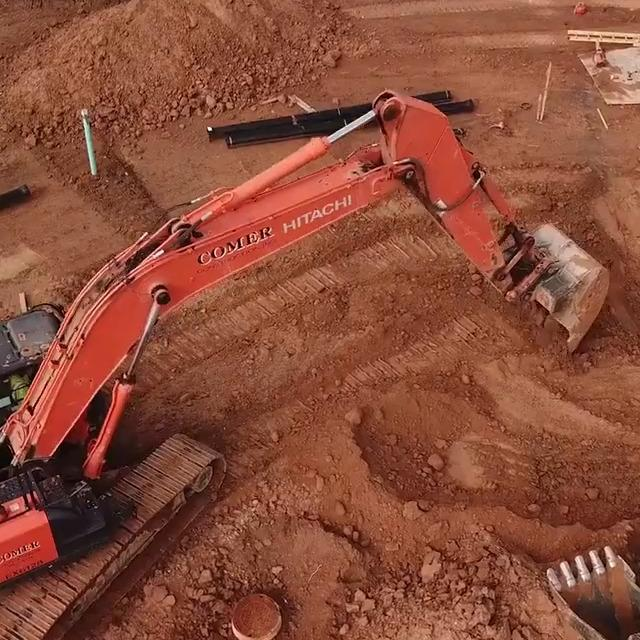Person: (10, 367, 31, 405)
Safety Vest: (11, 377, 29, 399)
machinery: (0, 86, 612, 640), (546, 546, 640, 640)
